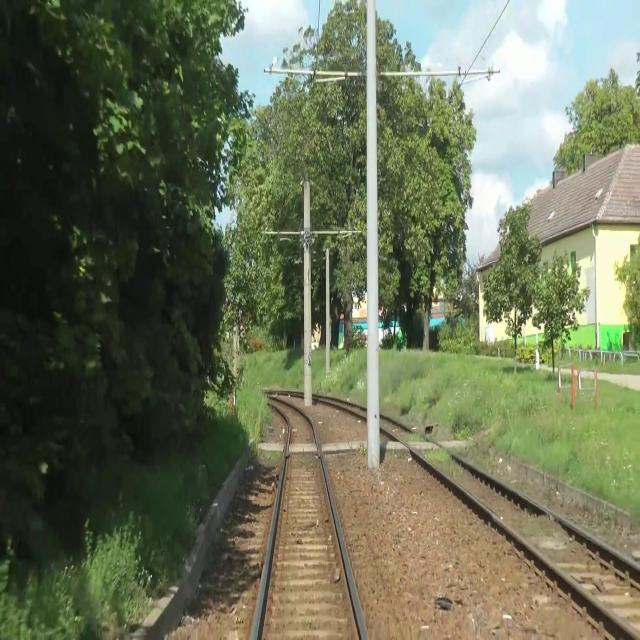rail-track: (379, 418, 640, 631), (257, 405, 361, 639)
